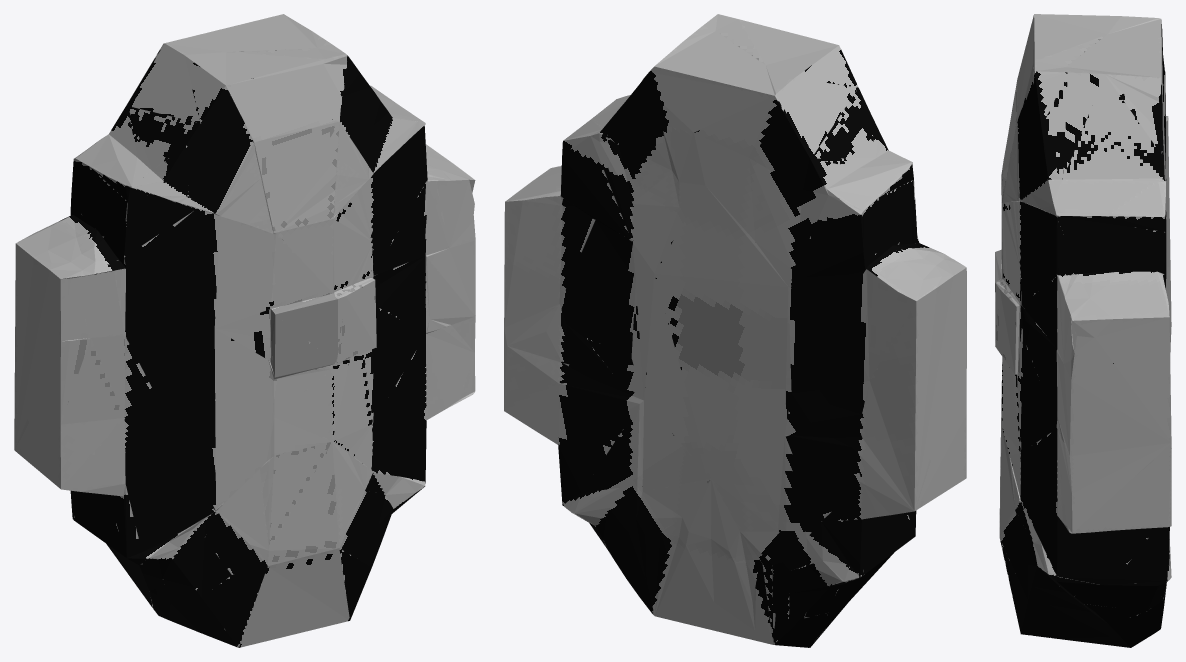
3 renders of one model, left to right at view 1: azimuth 30°, elevation 25°; view 2: azimuth 150°, elevation 25°; view 3: azimuth 270°, elevation 25°, orthographic.
Visible parts, largest first — view 1: OBJ0a2; view 2: OBJ0a2; view 3: OBJ0a2.
Boxes of the visible parts, <box> form: OBJ0a2: <box>14,14,475,647</box>; OBJ0a2: <box>504,14,966,647</box>; OBJ0a2: <box>995,14,1171,647</box>.
Size of the model in its own units: 0.149 by 0.1933 by 0.0547.
Materials: 1 (1 with a texture image).
